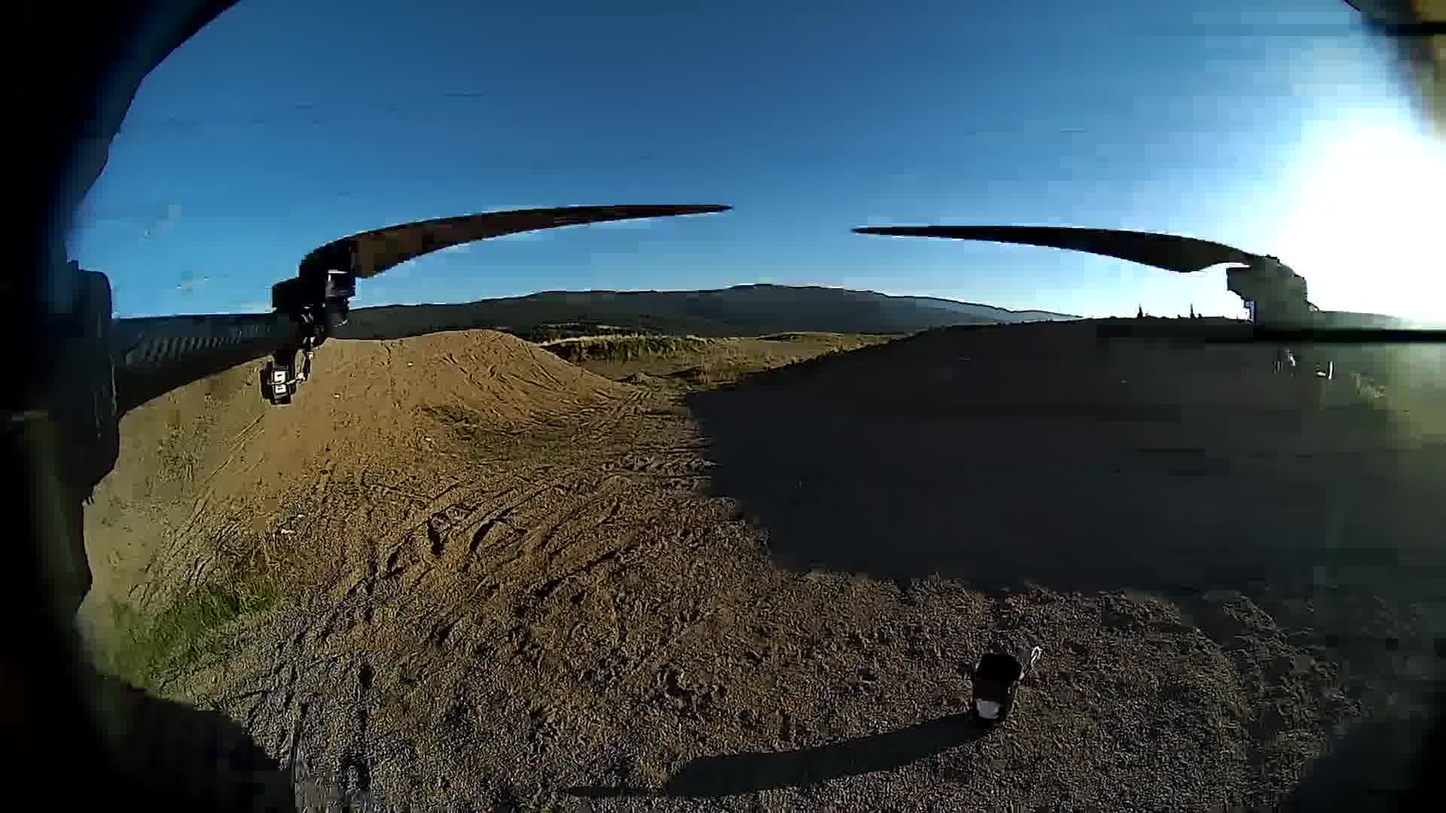Target: (974, 698, 1000, 723)
